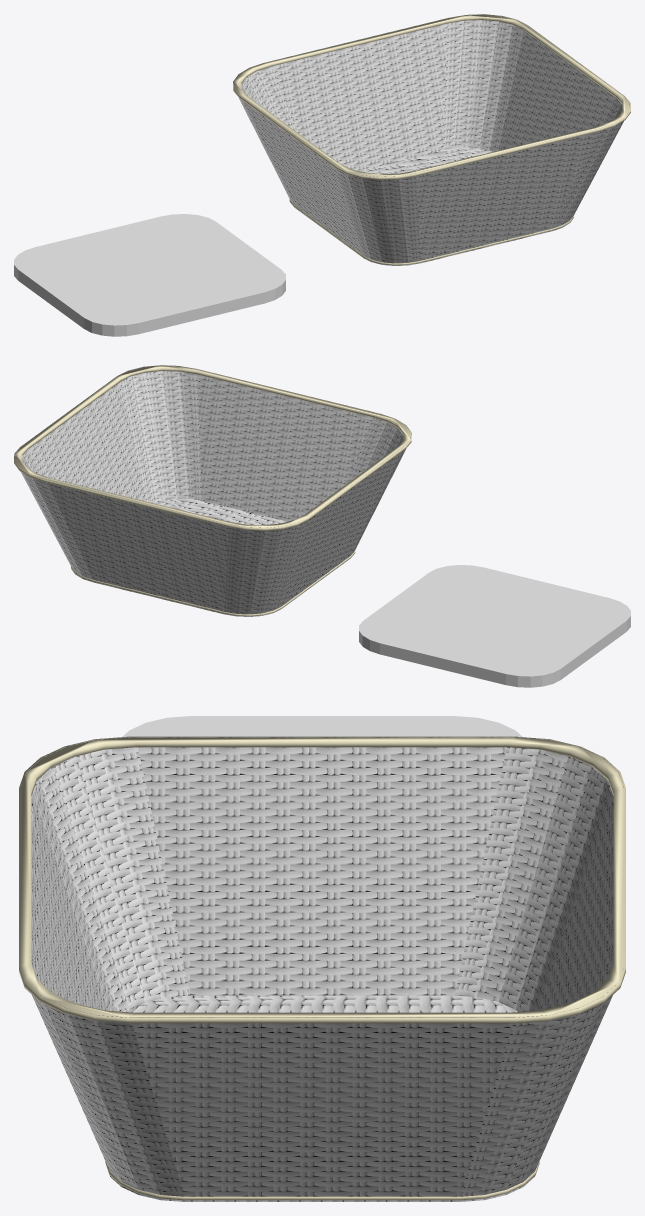
File: cesta 1.fbx
3 renders of one model, top to bottom at view 1: azimuth 30°, elevation 25°; view 2: azimuth 150°, elevation 25°; view 3: azimuth 270°, elevation 25°, orthographic. The views are drawn at different scales.
Visible parts, largest first — view 1: Plane, Plane.002, Plane.003, Plane.001; view 2: Plane, Plane.002, Plane.003, Plane.001; view 3: Plane, Plane.003, Plane.002, Plane.001.
Part boxes in pixels (x1,y1,x2,y2): Plane: (234,14,629,265); Plane.002: (14,214,285,336); Plane.003: (233,14,630,179); Plane.001: (289,199,573,265); Plane: (15,365,410,616); Plane.002: (359,565,630,687); Plane.003: (14,365,411,530); Plane.001: (71,550,355,616); Plane: (21,737,623,1201); Plane.003: (19,736,625,1023); Plane.002: (122,716,522,737); Plane.001: (105,1161,539,1200).
Size of the model in its own units: 1496 by 317 by 749.
